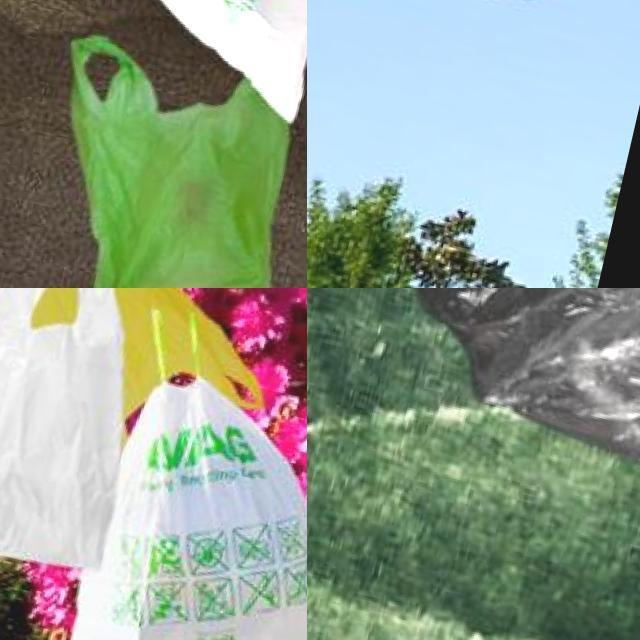waste: (17, 27, 307, 288), (52, 360, 307, 640), (0, 288, 174, 582), (400, 288, 640, 494), (55, 0, 307, 129)
